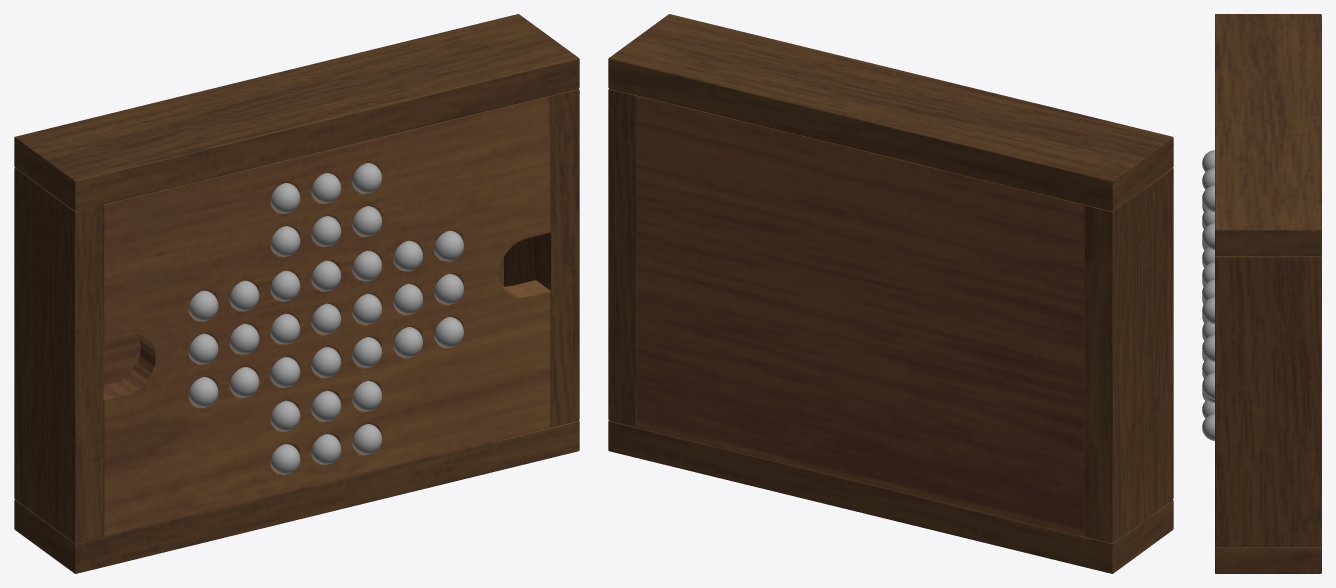
Rendered from game-box-walnut.glb.
3 views of the same model, side by side, from view 1: azimuth 30°, elevation 25°; view 2: azimuth 150°, elevation 25°; view 3: azimuth 270°, elevation 25° (orthographic). The views are drawn at different scales.
Parts seen in each view (by area): view 1: Cube.005, Sphere.002; view 2: Cube.005; view 3: Cube.005, Sphere.002.
Boxes of the visible parts, bbox=[...] form: Cube.005: bbox=[14, 14, 579, 573]; Sphere.002: bbox=[188, 163, 463, 474]; Cube.005: bbox=[608, 14, 1173, 573]; Cube.005: bbox=[1215, 14, 1321, 573]; Sphere.002: bbox=[1202, 150, 1214, 440].
Size of the model in its own units: 0.172 by 0.128 by 0.0403.
2 materials, 1 textured.
